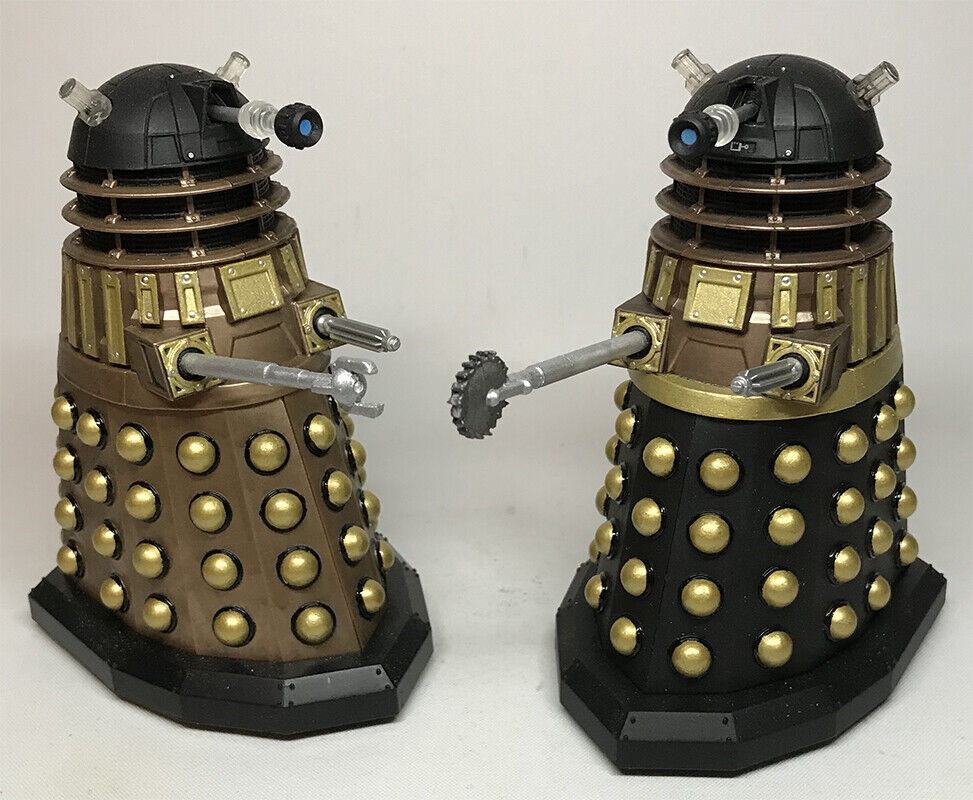dalek: (469, 52, 928, 798), (0, 23, 392, 668)
